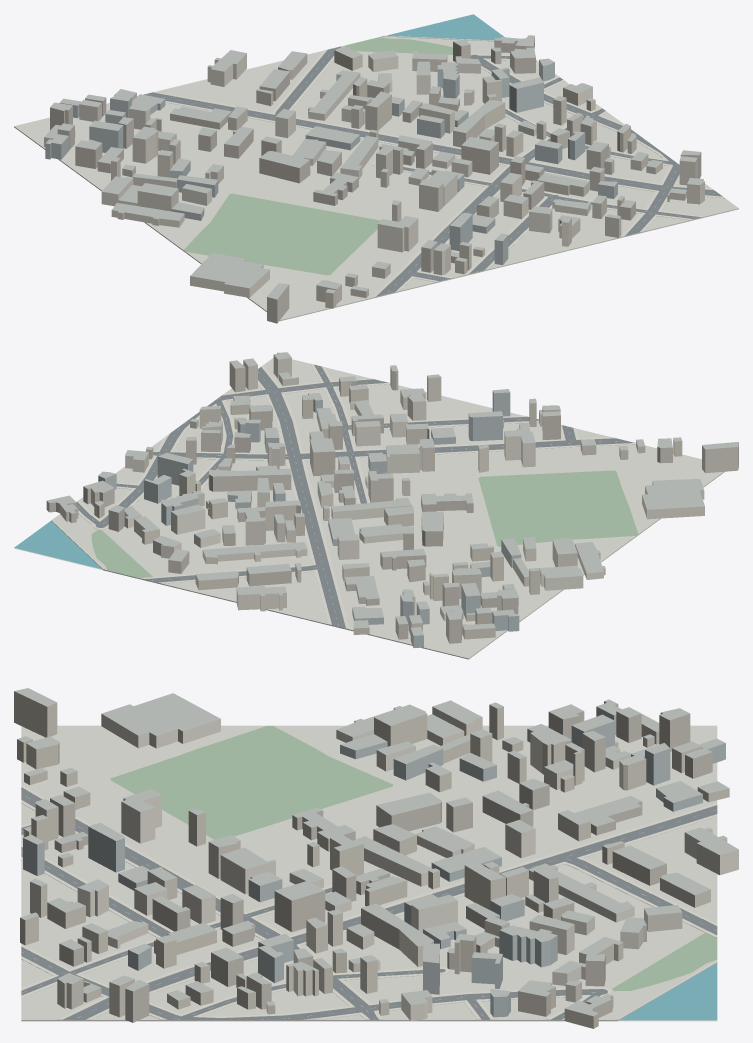
3 views of the same model, one above another, from view 1: azimuth 30°, elevation 25°; view 2: azimuth 150°, elevation 25°; view 3: azimuth 270°, elevation 25° (orthographic). The views are drawn at different scales.
Visible parts, largest first — view 1: city; view 2: city; view 3: city.
Part boxes in pixels (box(x1,y1,x2,y2)): city: box(14, 14, 738, 323); city: box(14, 352, 738, 659); city: box(14, 688, 738, 1028).
Size of the model in its own units: 549 by 26 by 521.
